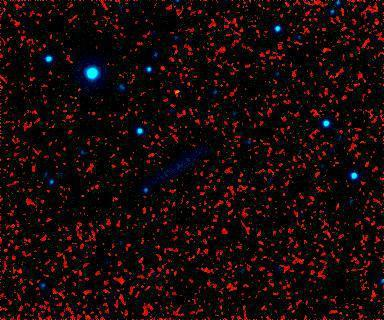star: (160, 78, 190, 108)
